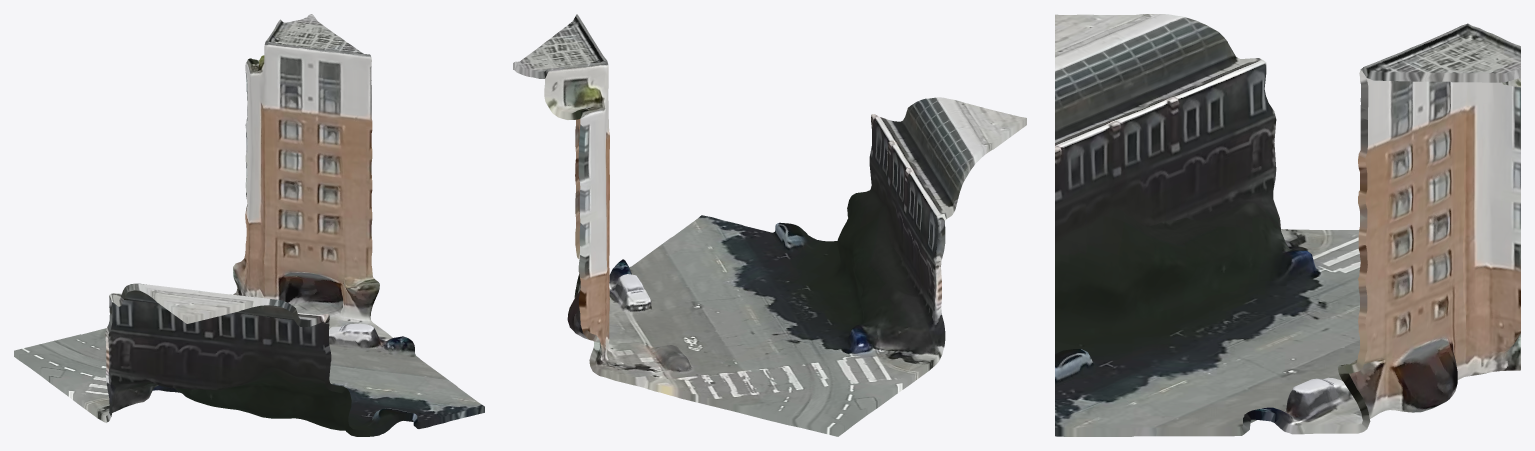
The model's file is z20-167792-405228-h0-yup-uvflip-v3-world.glb.
3 renders of one model, left to right at view 1: azimuth 30°, elevation 25°; view 2: azimuth 150°, elevation 25°; view 3: azimuth 270°, elevation 25°, orthographic. The views are drawn at different scales.
Bounding box in the file's own units: 30.16 × 26.68 × 30.32.
Materials: 1 (1 with a texture image).
